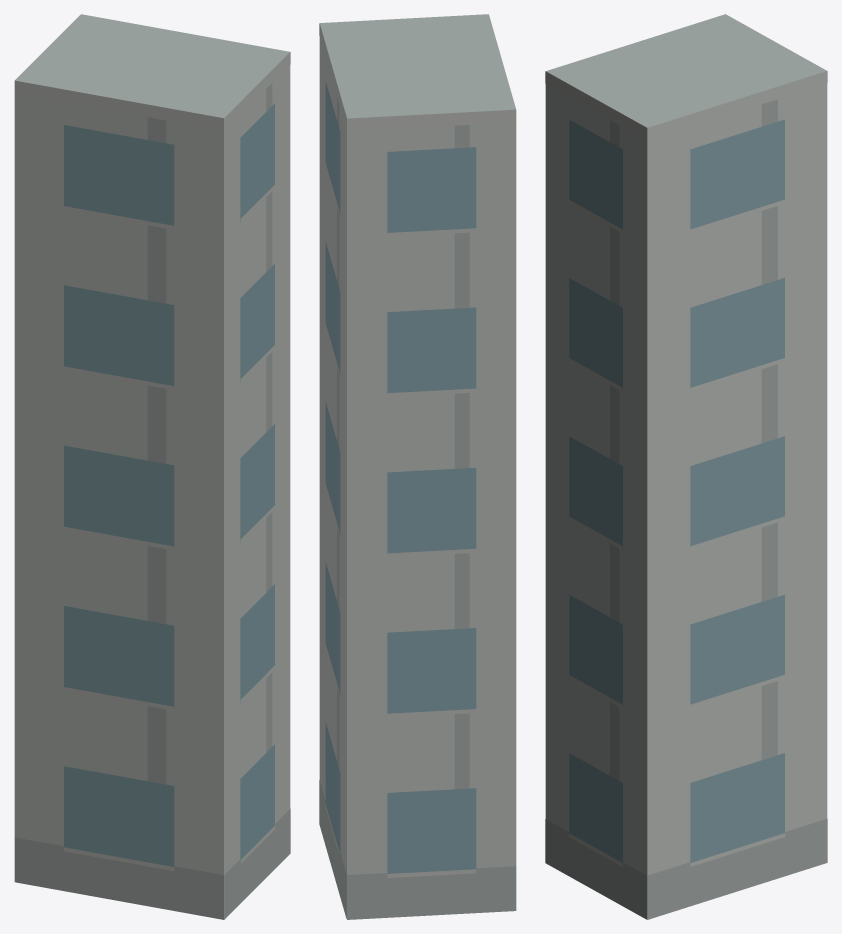
The model's file is survey-upis-32557010.glb.
3 views of the same model, side by side, from view 1: azimuth 30°, elevation 25°; view 2: azimuth 150°, elevation 25°; view 3: azimuth 270°, elevation 25° (orthographic).
Parts seen in each view (by area): view 1: survey-upis-32557010.tmp; view 2: survey-upis-32557010.tmp; view 3: survey-upis-32557010.tmp.
Boxes of the visible parts, <box> form: survey-upis-32557010.tmp: <box>14,14,290,919</box>; survey-upis-32557010.tmp: <box>319,14,516,919</box>; survey-upis-32557010.tmp: <box>545,14,827,919</box>.
Size of the model in its own units: 4.71 by 15.25 by 4.92.
